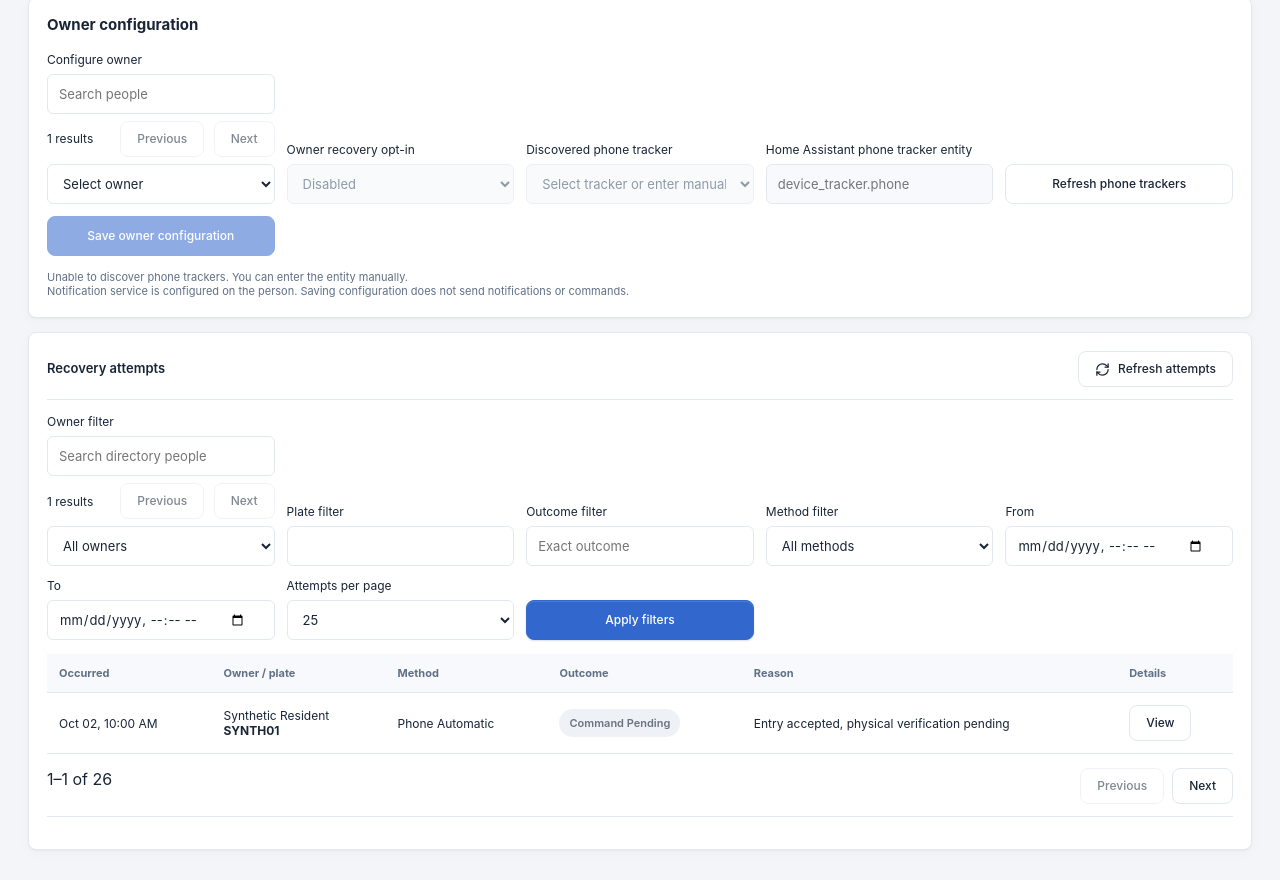
it: loads durable detail on demand and keeps command verification distinct from decision
(page scrolled)
Click the button with aria-label "View recovery attempt SYNTH01 attempt-1" at coordinates (1160, 723), box 1129,705 -> 1191,741
(page scrolled)
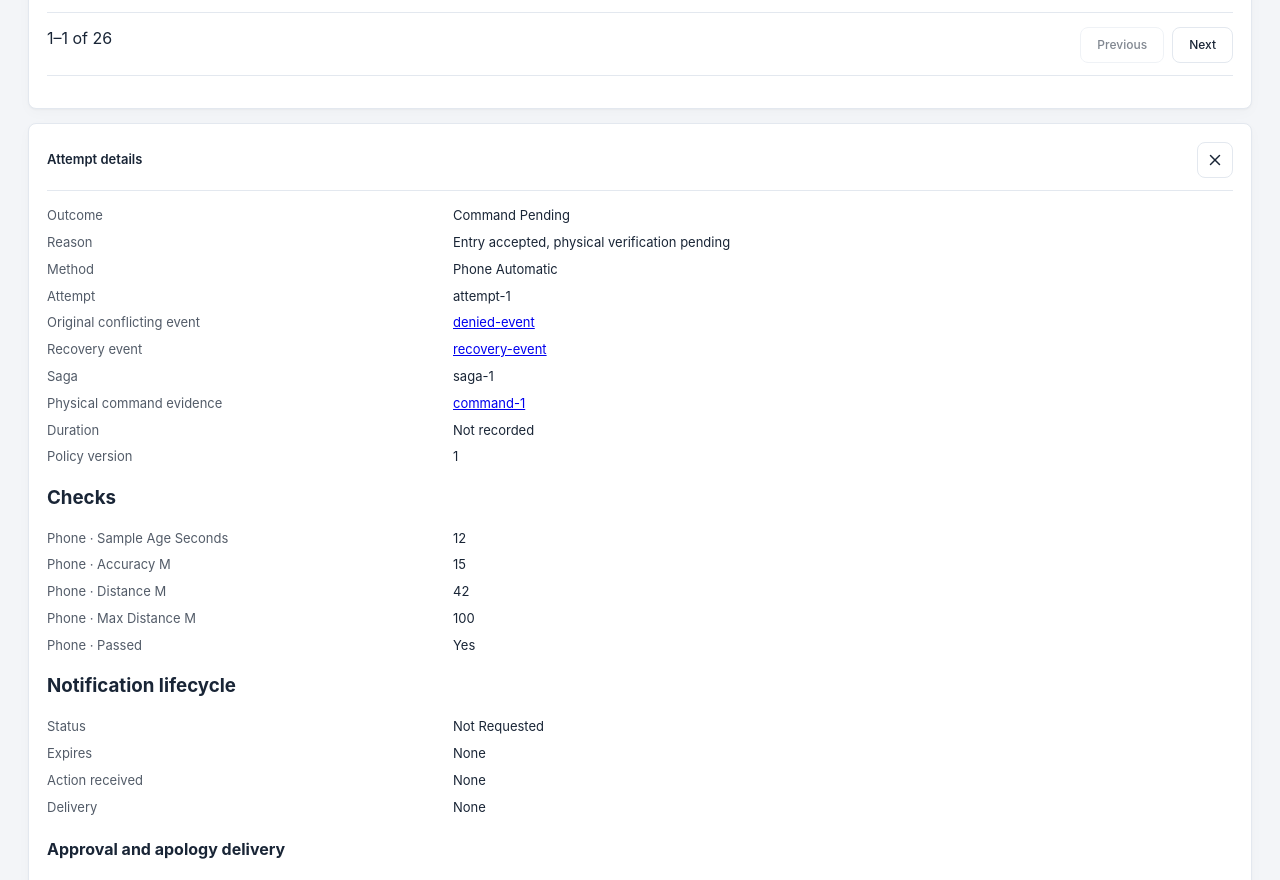
Expected: the text "Not recorded" is shown, 453,422 -> 534,438
